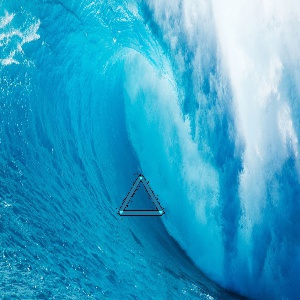triangle: (117, 169, 166, 218)
